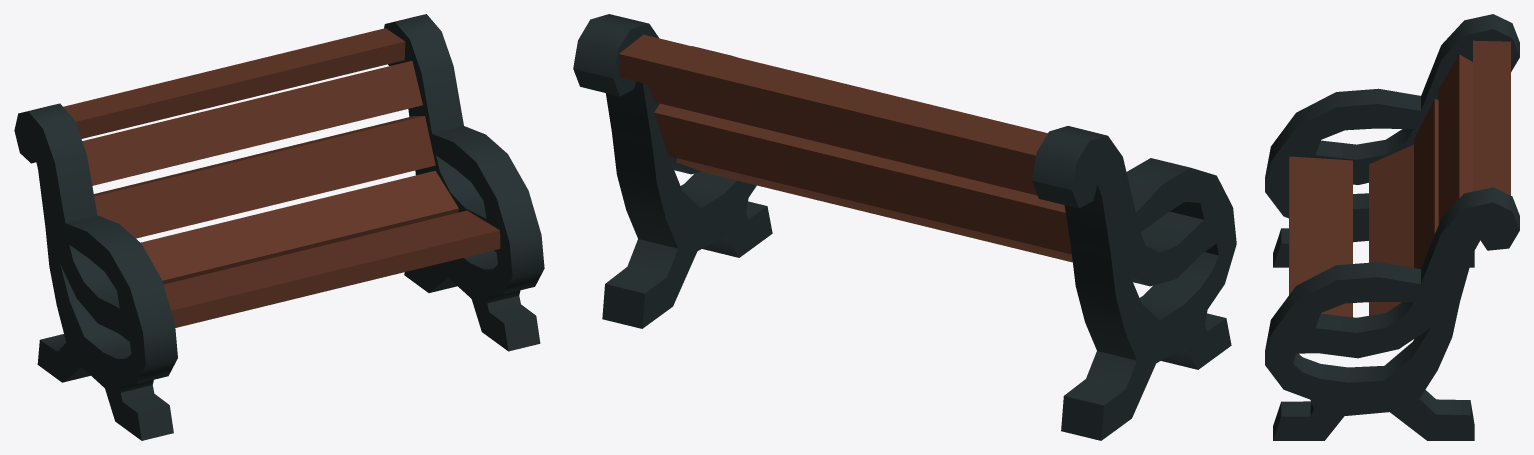
File: bench_08.fbx
The picture shows the model from 3 angles, left to right: view 1: azimuth 30°, elevation 25°; view 2: azimuth 150°, elevation 25°; view 3: azimuth 270°, elevation 25°; orthographic projection. The views are drawn at different scales.
Visible parts, largest first — view 1: bench_08; view 2: bench_08; view 3: bench_08.
Boxes of the visible parts, <box> form: bench_08: <box>14,14,544,440</box>; bench_08: <box>573,14,1236,440</box>; bench_08: <box>1265,14,1519,440</box>.
Size of the model in its own units: 129 by 75.96 by 73.48.
